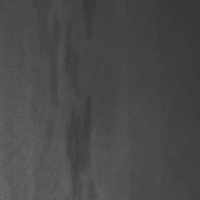inclusion: (63, 11, 97, 199), (27, 1, 61, 182), (77, 1, 101, 48)
